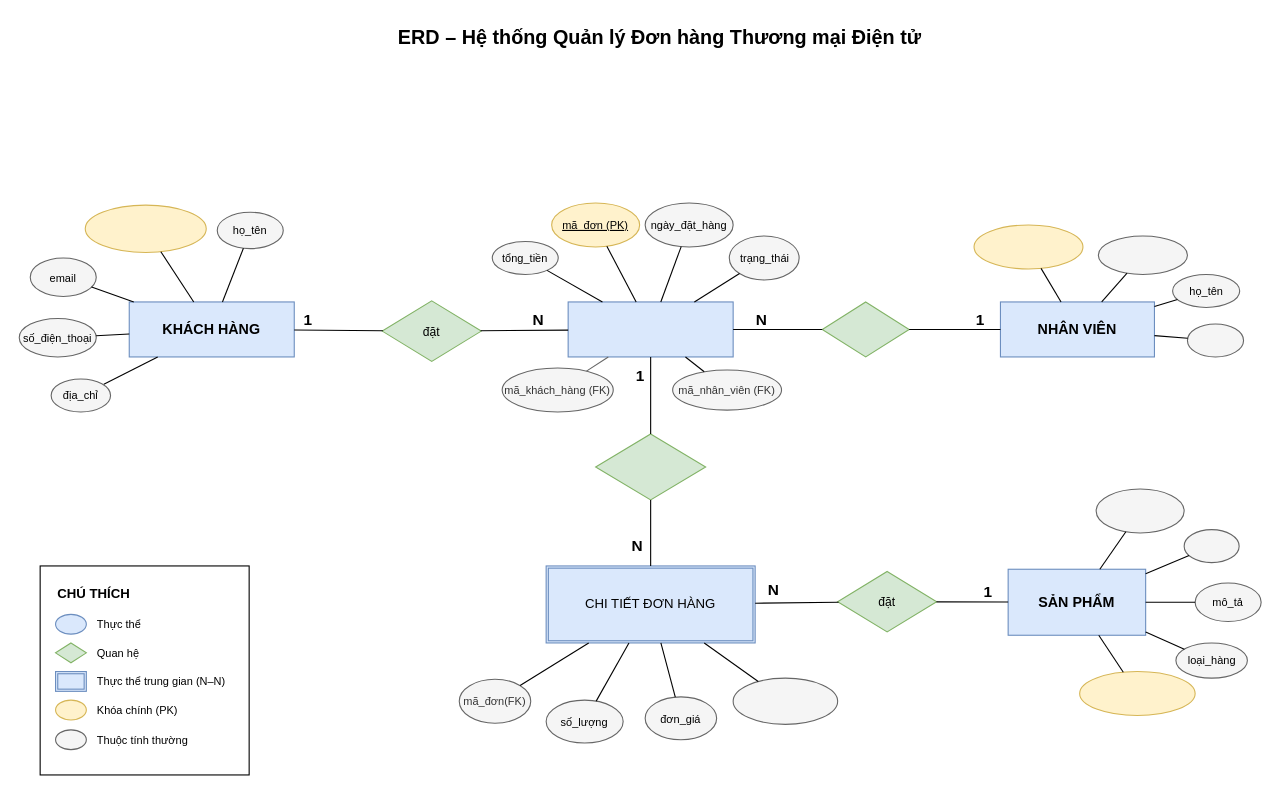
Some shapes in this 1280 by 794 pixel diagram are drawn without their labels. Here are the shapes that lost their labels. From the top down, the box of each, then its label:
(84, 204, 206, 252): mã_khách_hàng (PK)
(973, 224, 1083, 269): mã_nhân_viên (PK)
(1097, 235, 1187, 274): ngày_vào_làm
(567, 301, 733, 357): ĐƠN HÀNG
(821, 301, 909, 357): xử lý
(1186, 323, 1244, 357): vị_trí
(595, 433, 706, 500): chi tiết
(1095, 488, 1184, 533): tên_sản_phẩm
(1183, 529, 1239, 563): giá
(732, 677, 838, 724): mã_sản_phẩm(FK)
(1079, 670, 1195, 716): mã_sản_phẩm (PK)
